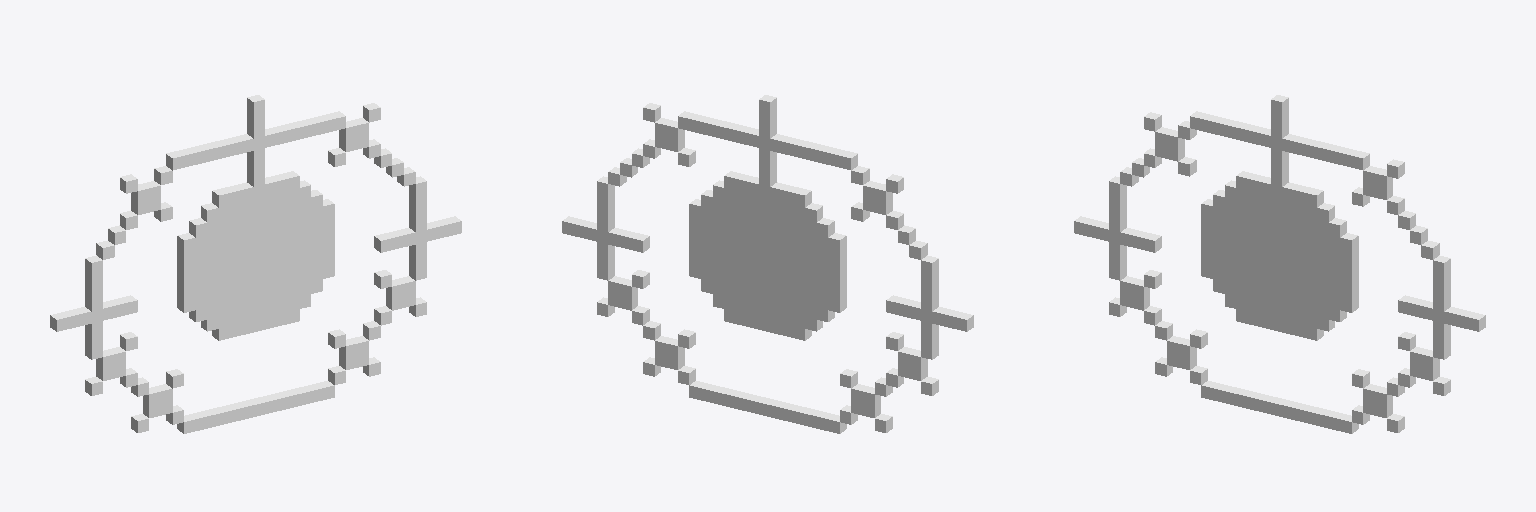
Rendered from wormhole.obj.
3 views of the same model, side by side, from view 1: azimuth 30°, elevation 25°; view 2: azimuth 150°, elevation 25°; view 3: azimuth 330°, elevation 25° (orthographic).
Visible parts, largest first — view 1: object 1; view 2: object 1; view 3: object 1.
Boxes of the visible parts, <box> form: object 1: <box>50,95,461,433</box>; object 1: <box>562,95,973,433</box>; object 1: <box>1074,95,1485,433</box>.
Bounding box in the file's own units: 3.5 × 2.6 × 0.1.